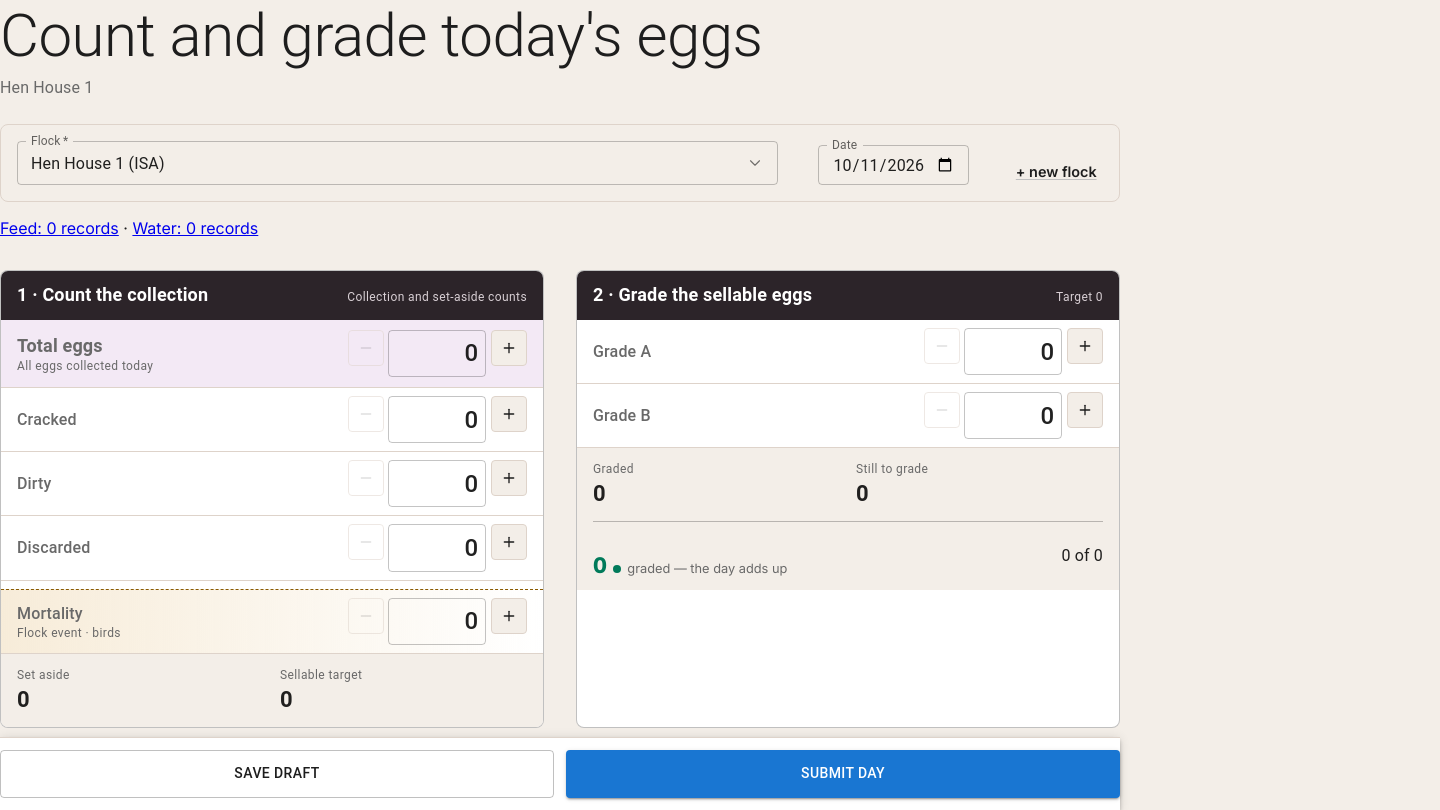
Test: DailyEntryPage new-flock dialog › creates the flock with the full body and a key, then closes and selects it
Expected: the number field labelled "Grade A" is shown, [964,328,1062,375]
Expected: the button "Save draft" is enabled, [0,750,554,798]
Step 1. Click the button "+ new flock" → {"x": 1056, "y": 172}, box [1009,158,1103,185]
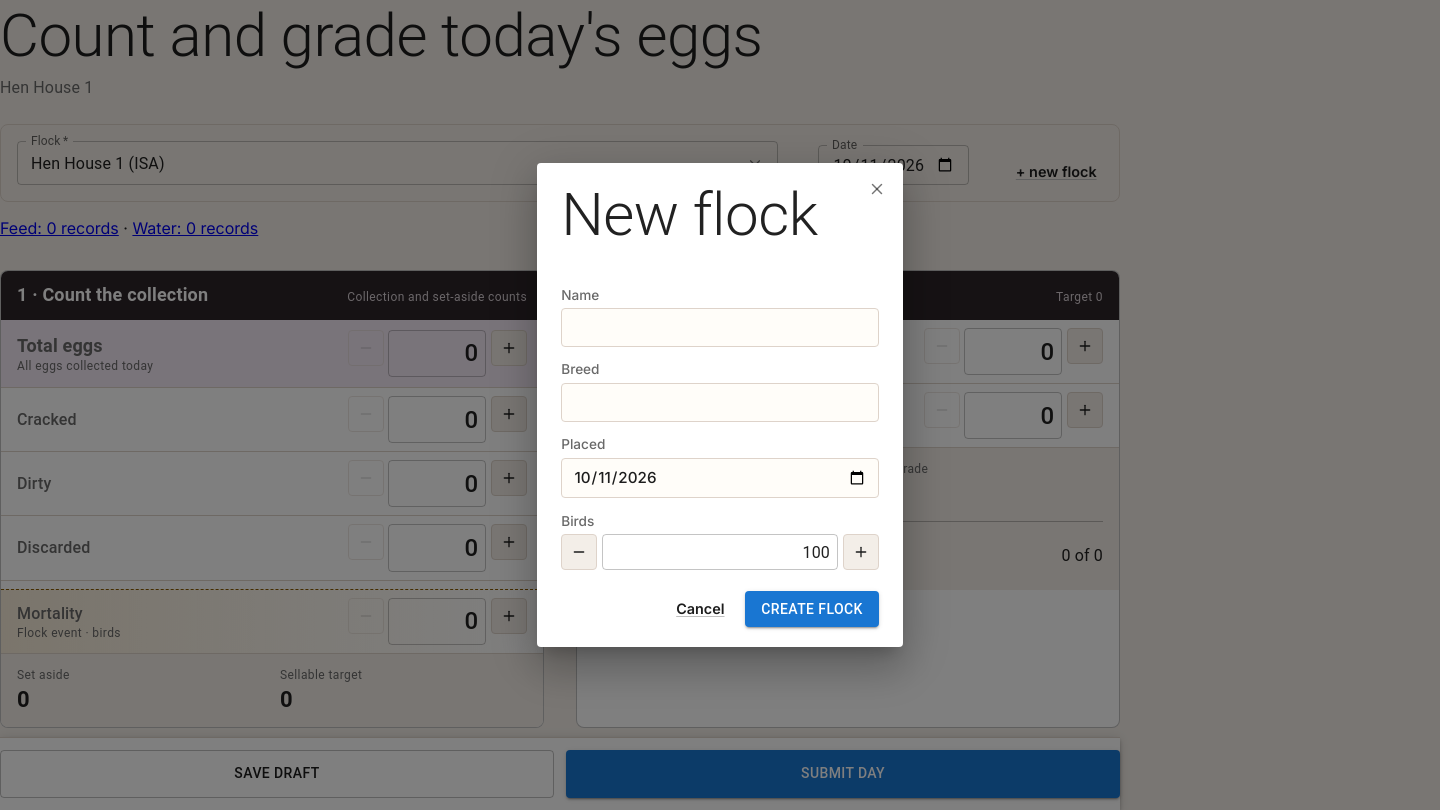
Step 2. Type "Rhode Reds" into the field labelled "Name" → {"x": 720, "y": 328}, box [561,308,879,347]
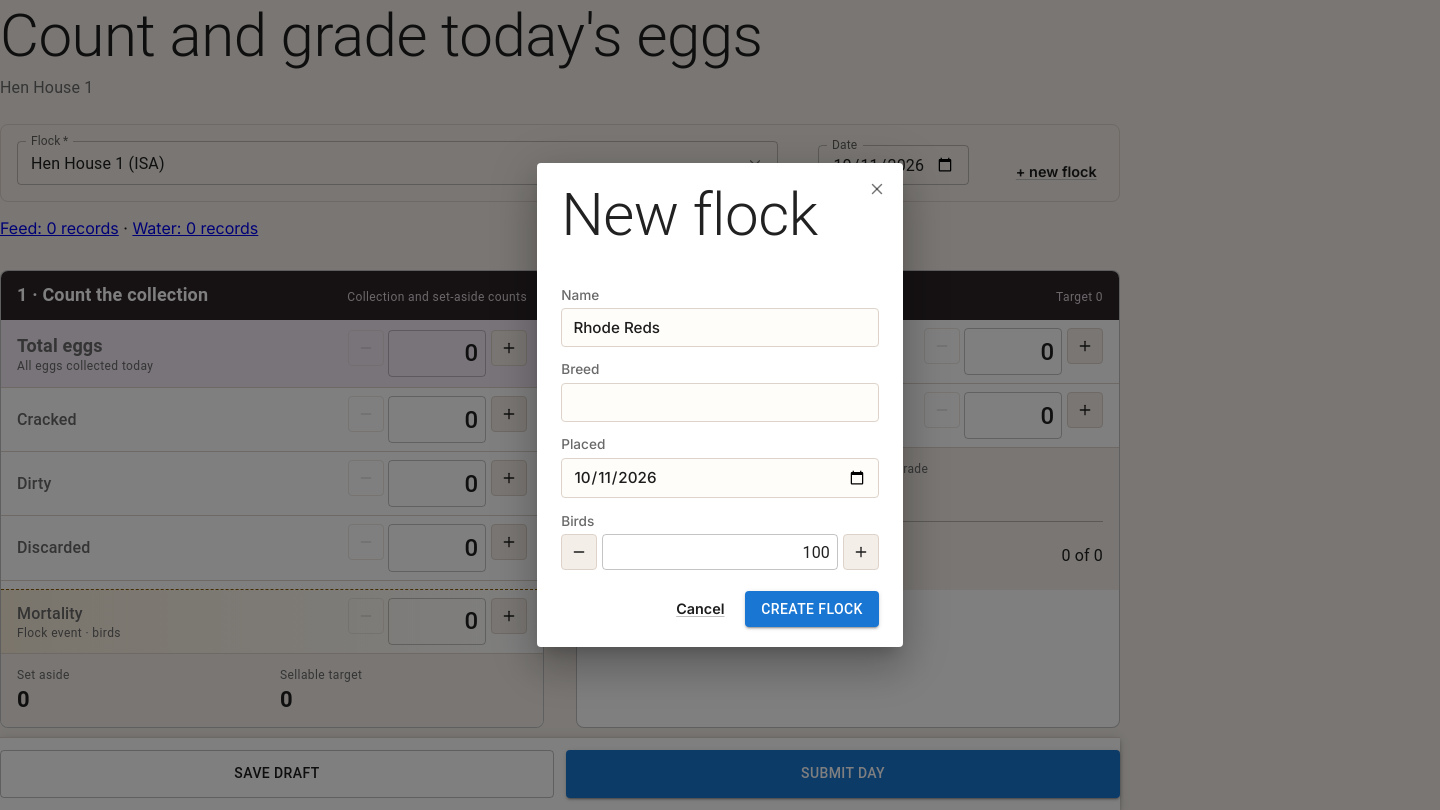
Step 3. Type "Rhode Island Red" into the field labelled "Breed" → {"x": 720, "y": 402}, box [561,383,879,422]
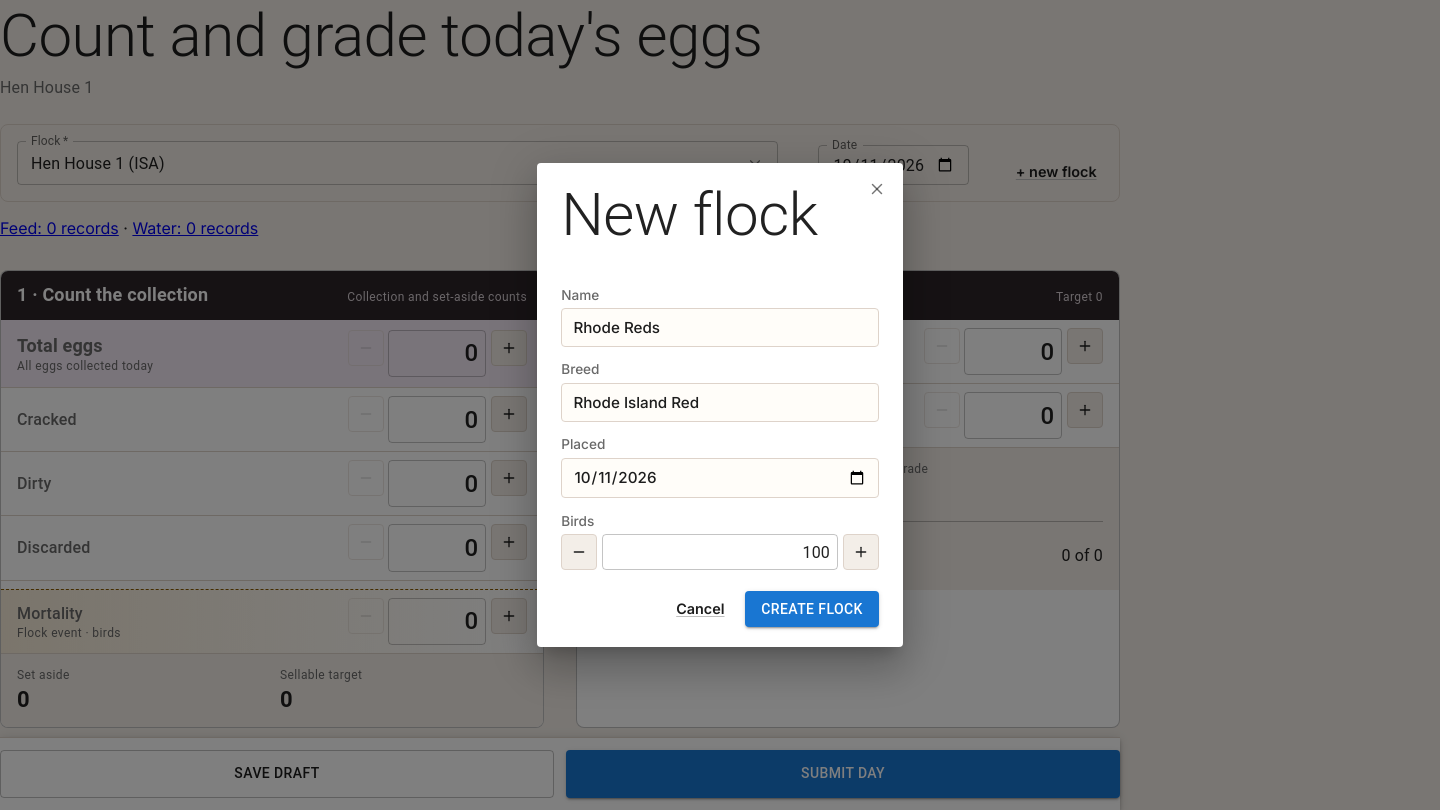
Step 4. Type "2026-05-10" into the date field labelled "Placed" → {"x": 720, "y": 478}, box [561,458,879,498]
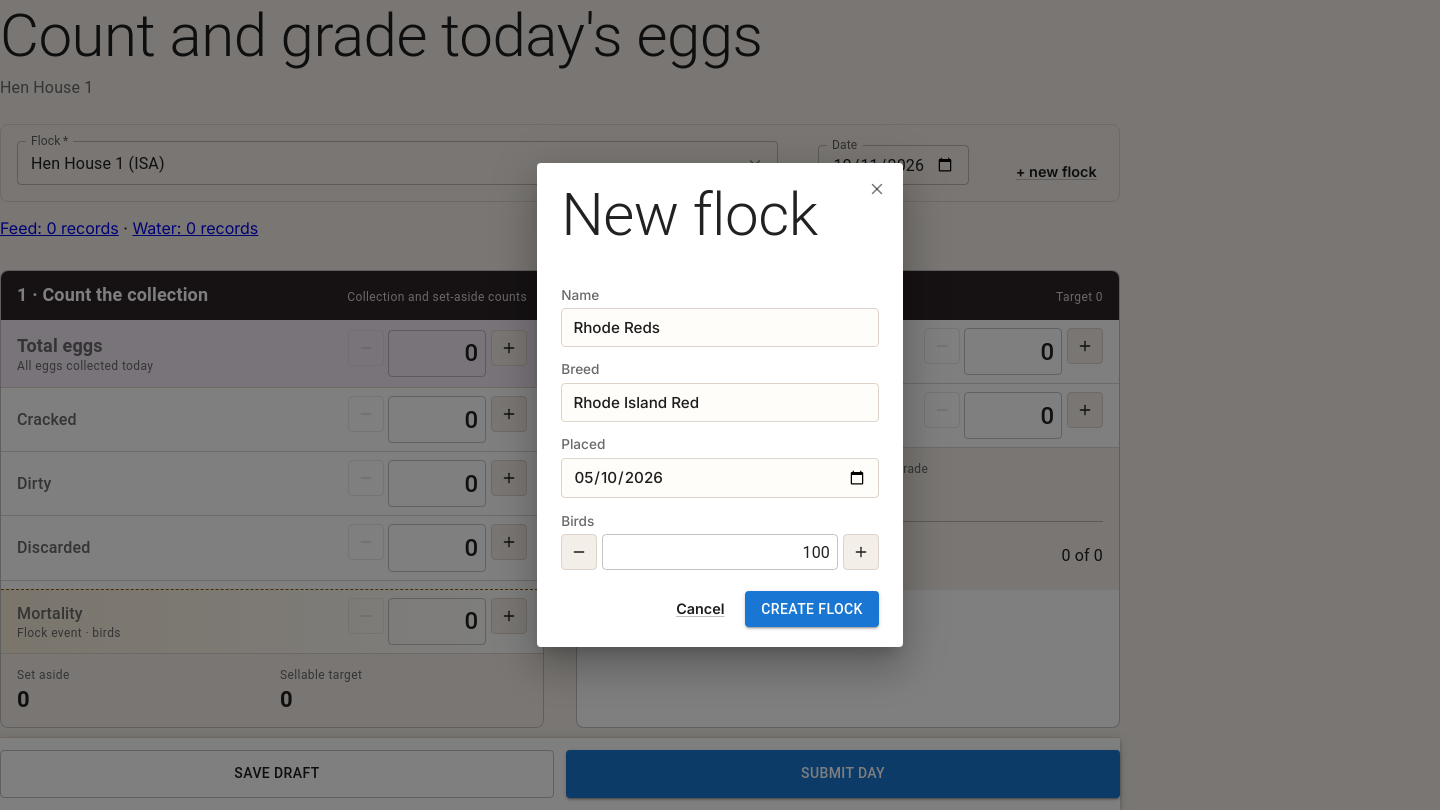
Step 5. Replace the text in the number field labelled "Birds" with "250" → {"x": 720, "y": 552}, box [602,534,838,570]
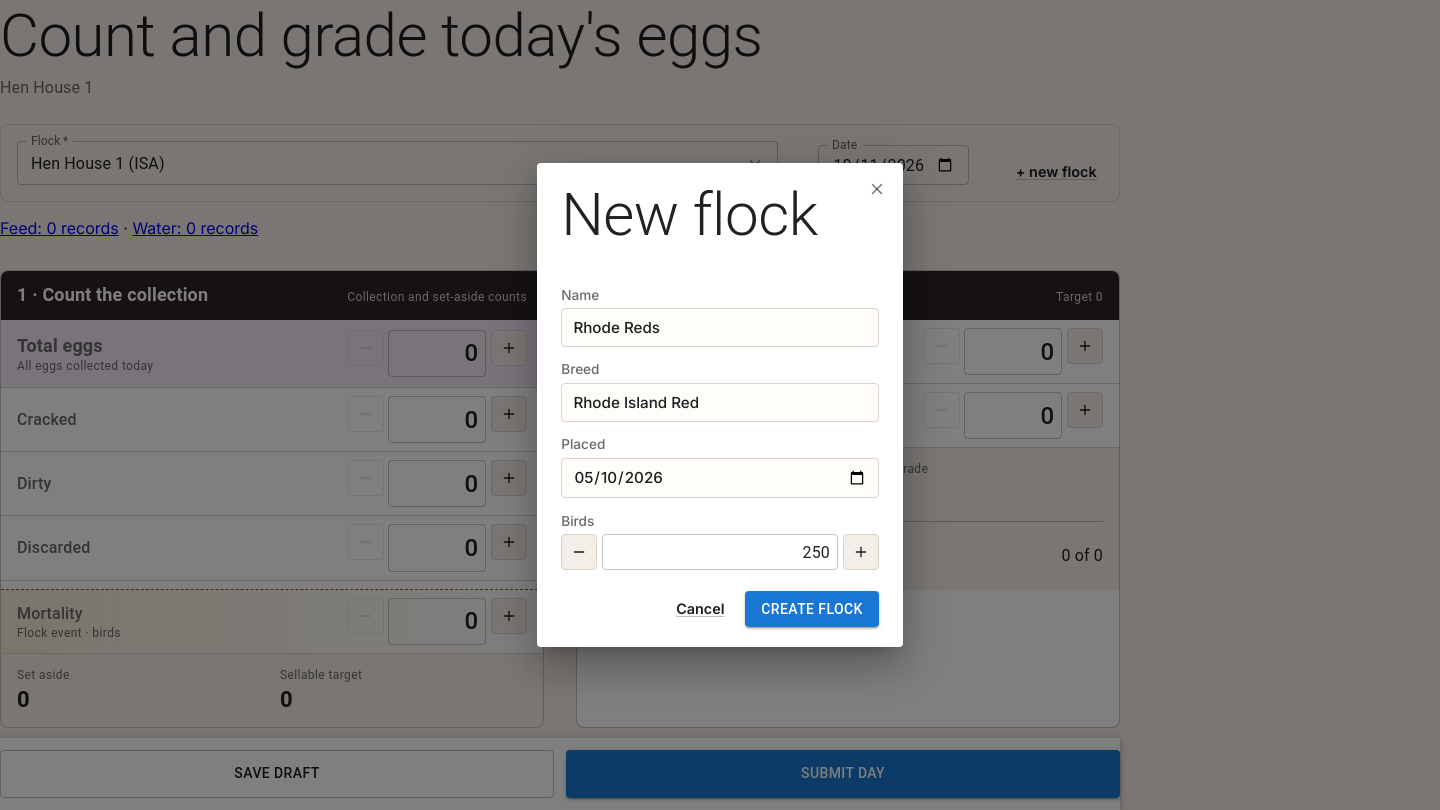
Step 6. Click the button "Create flock" → {"x": 812, "y": 609}, box [745,591,879,627]
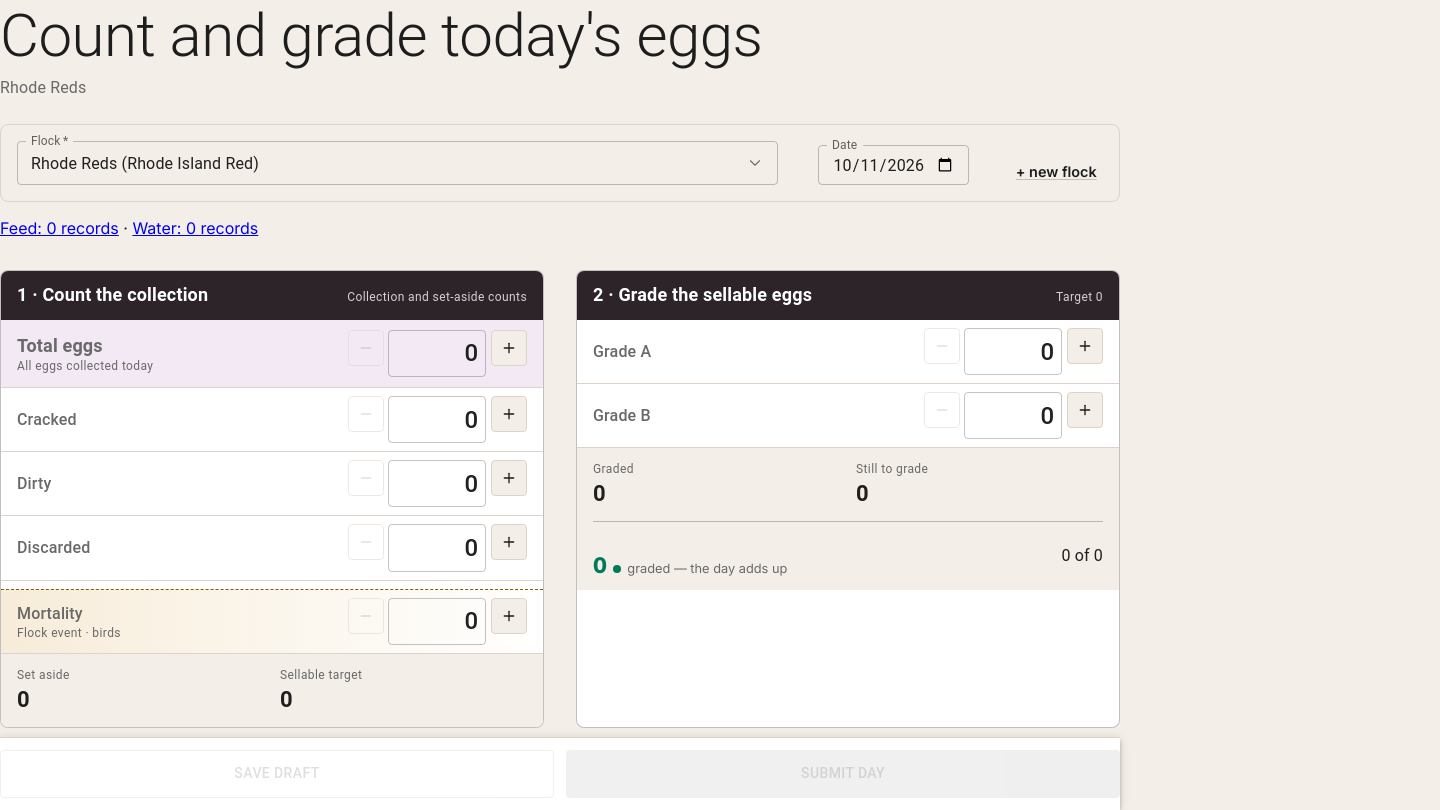
Now the dialog is gone
Now the field labelled "Flock" holds "Rhode Reds (Rhode Island Red)", box [17,143,738,183]
